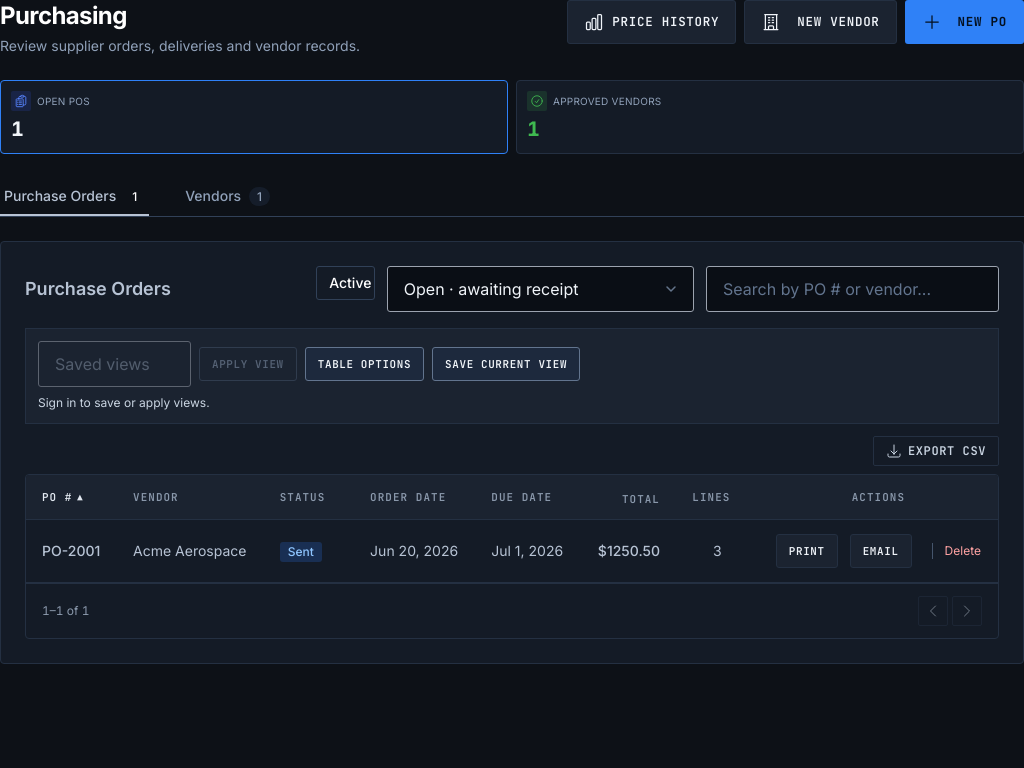
Test: Purchasing — PO delete › a 400 (received material) surfaces the verbatim detail toast and keeps the row
Expected: the heading "Purchasing" is shown, [0,0,127,32]
Click the button "Delete": (956, 551) [932,543,981,559]
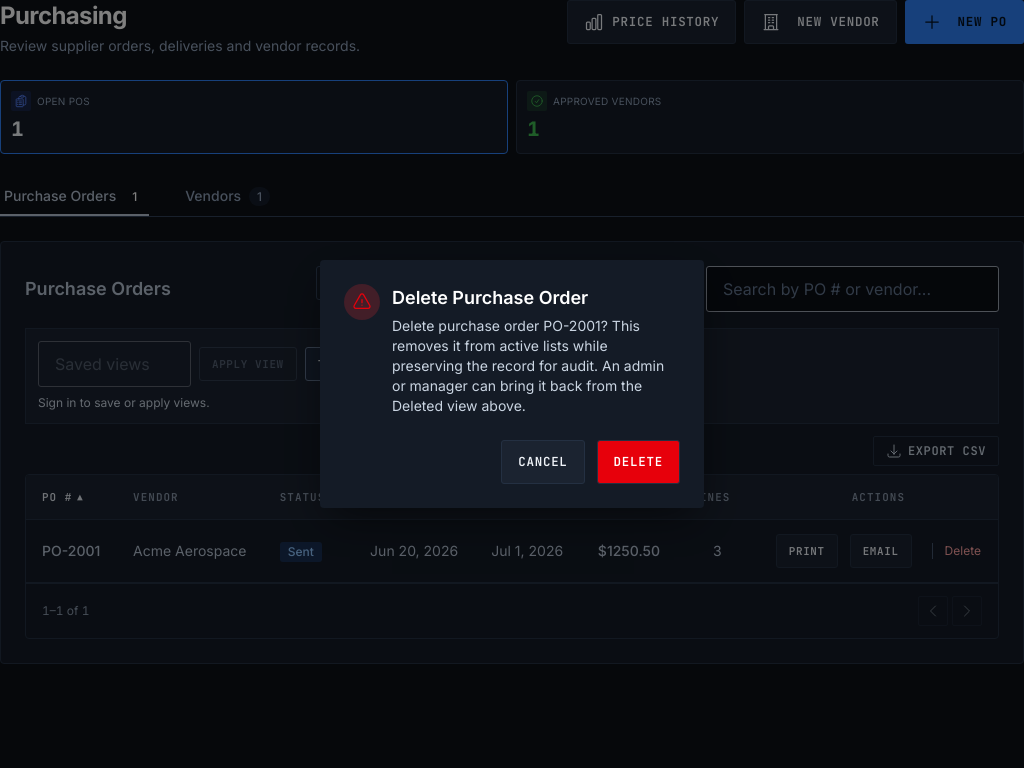
Click the button "Delete": (638, 462) [597,440,680,484]
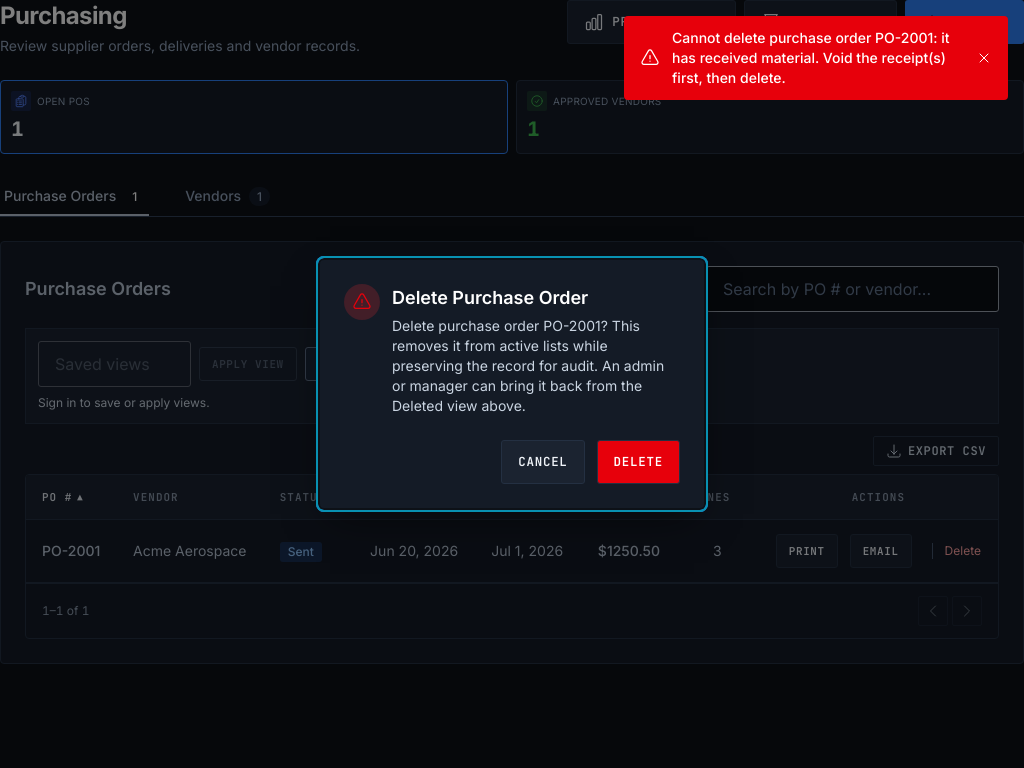
Expected: the text "PO-2001" is shown, [42,542,100,559]
Result: the text "Cannot delete purchase order PO-2001: it has received material. Void the receipt(s) first, then delete." is shown at [672,29,950,86]
